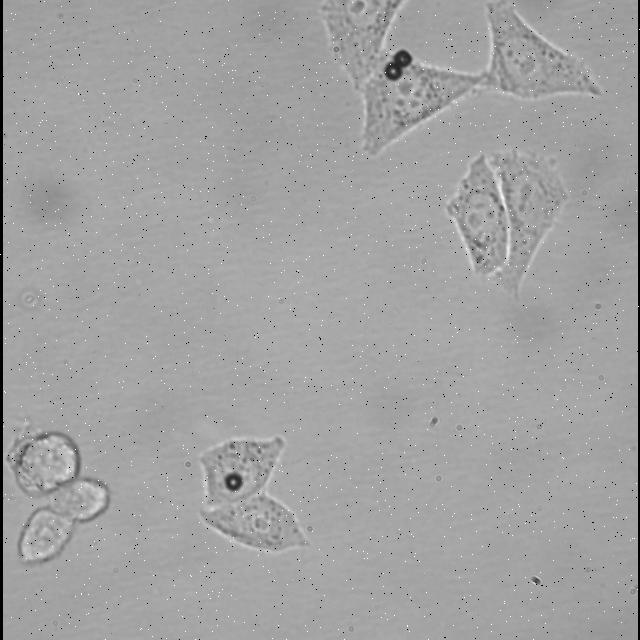microbeads: (384, 62, 408, 82), (222, 472, 244, 493), (396, 48, 416, 70)
